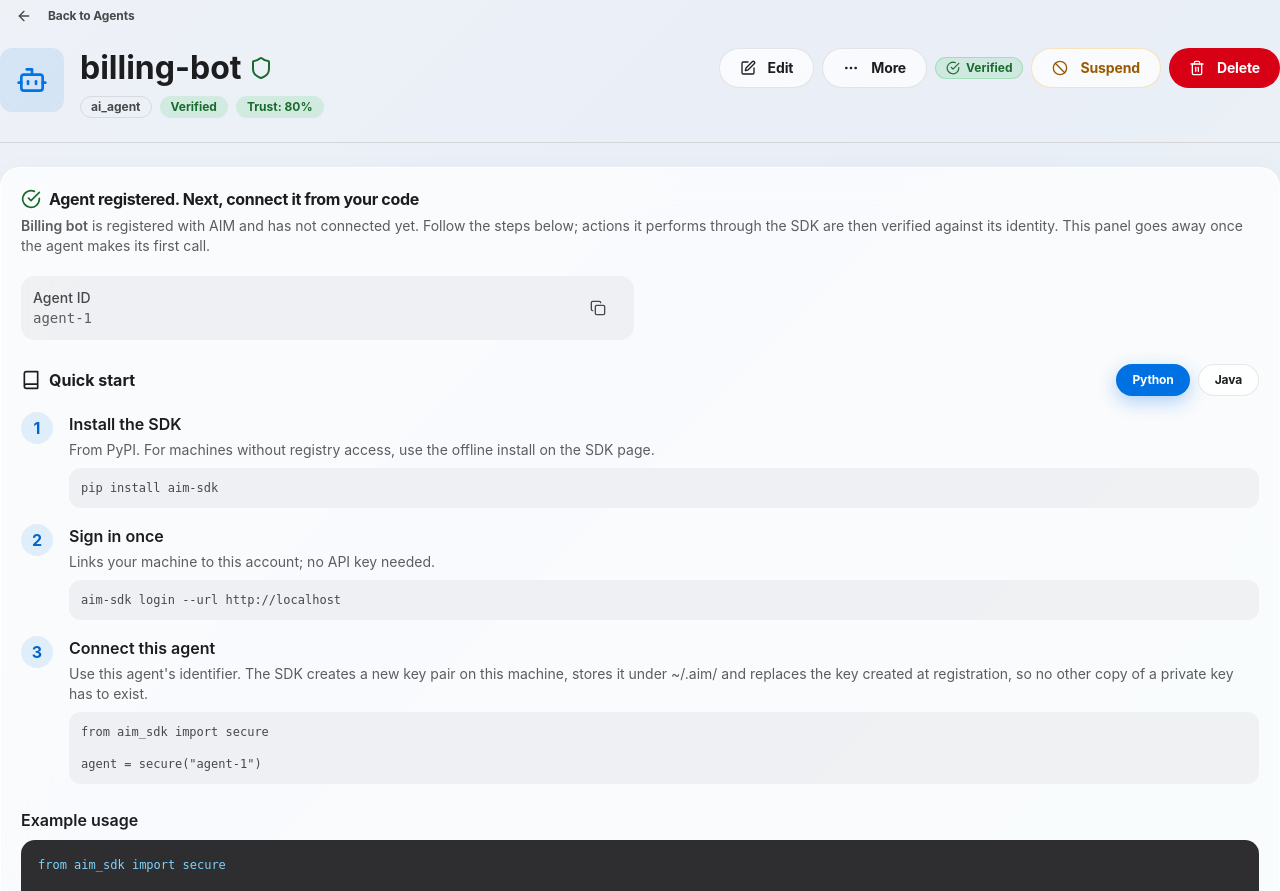
agent page: delete › keeps the dialog open with the reason inside it, never a browser alert
Click the button "Delete": x=1224, y=68 [1169,48,1279,88]
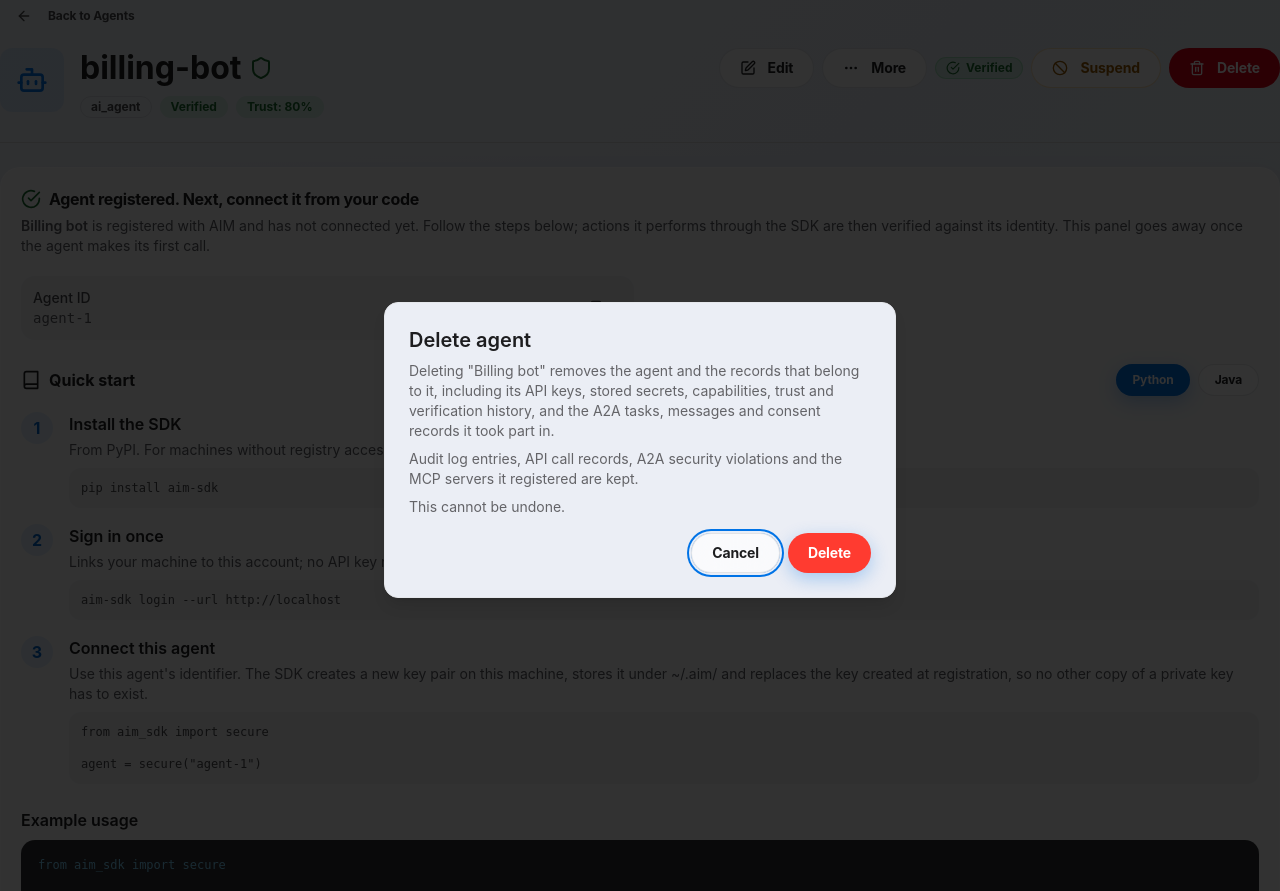
Click the button "Delete": x=829, y=553 [788,533,871,573]
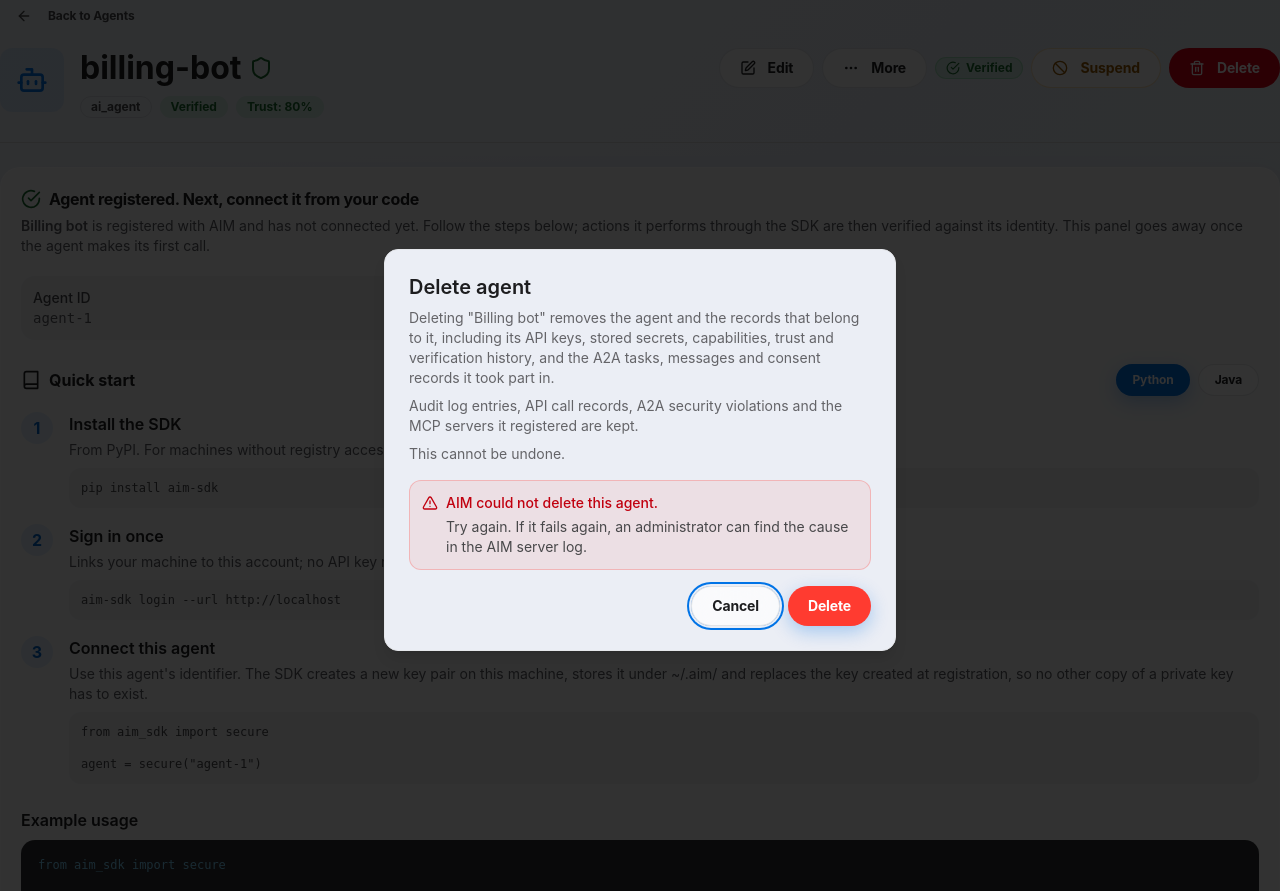
Now the message shows "AIM could not delete this agent.", box [446,494,658,511]
